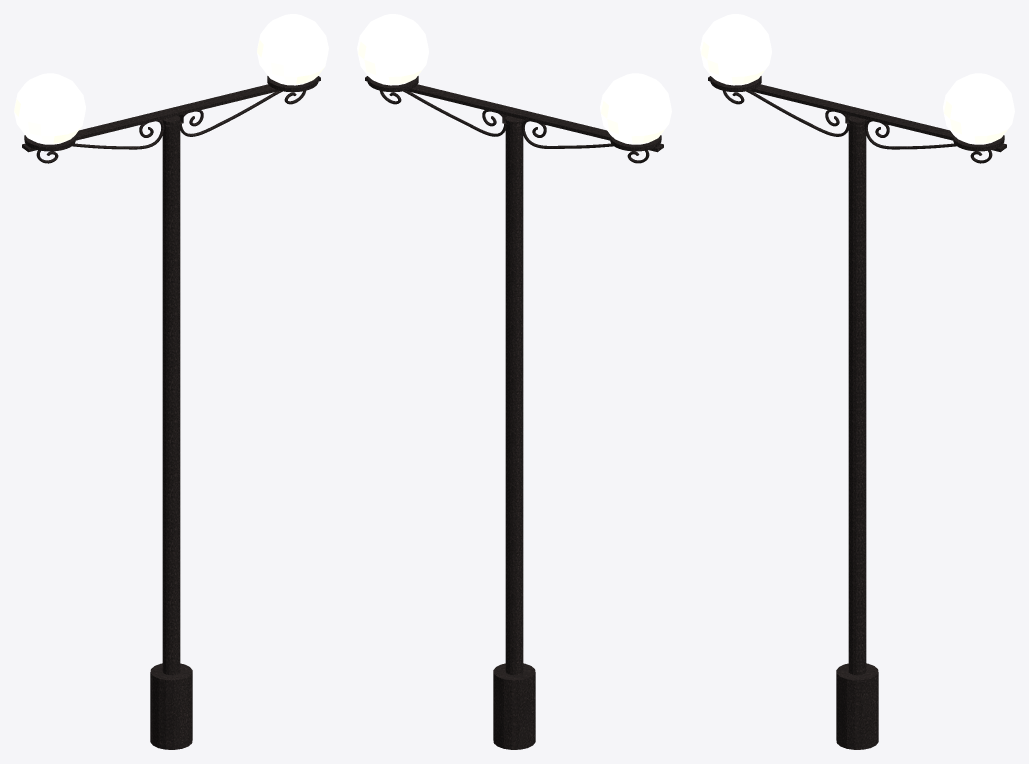
File: фонарь.glb
3 views of the same model, side by side, from view 1: azimuth 30°, elevation 25°; view 2: azimuth 150°, elevation 25°; view 3: azimuth 330°, elevation 25° (orthographic).
Visible parts, largest first — view 1: Cylinder.003, Sphere.001; view 2: Cylinder.003, Sphere.001; view 3: Cylinder.003, Sphere.001.
Boxes of the visible parts, x1=… form: Cylinder.003: x1=22, y1=76, x2=320, y2=749; Sphere.001: x1=14, y1=14, x2=328, y2=144; Cylinder.003: x1=365, y1=76, x2=663, y2=749; Sphere.001: x1=357, y1=14, x2=671, y2=144; Cylinder.003: x1=708, y1=76, x2=1006, y2=749; Sphere.001: x1=700, y1=14, x2=1014, y2=144.
Bounding box in the file's own units: 1.77 × 3.85 × 0.3656.
2 materials, 2 textured.
